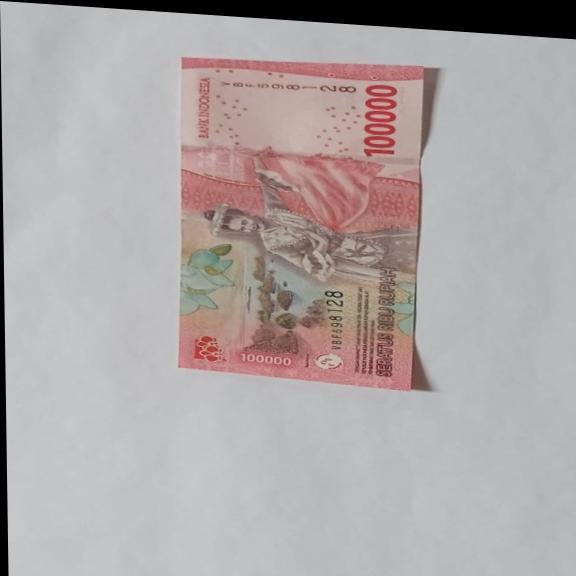Kertas: (359, 82, 399, 158)
